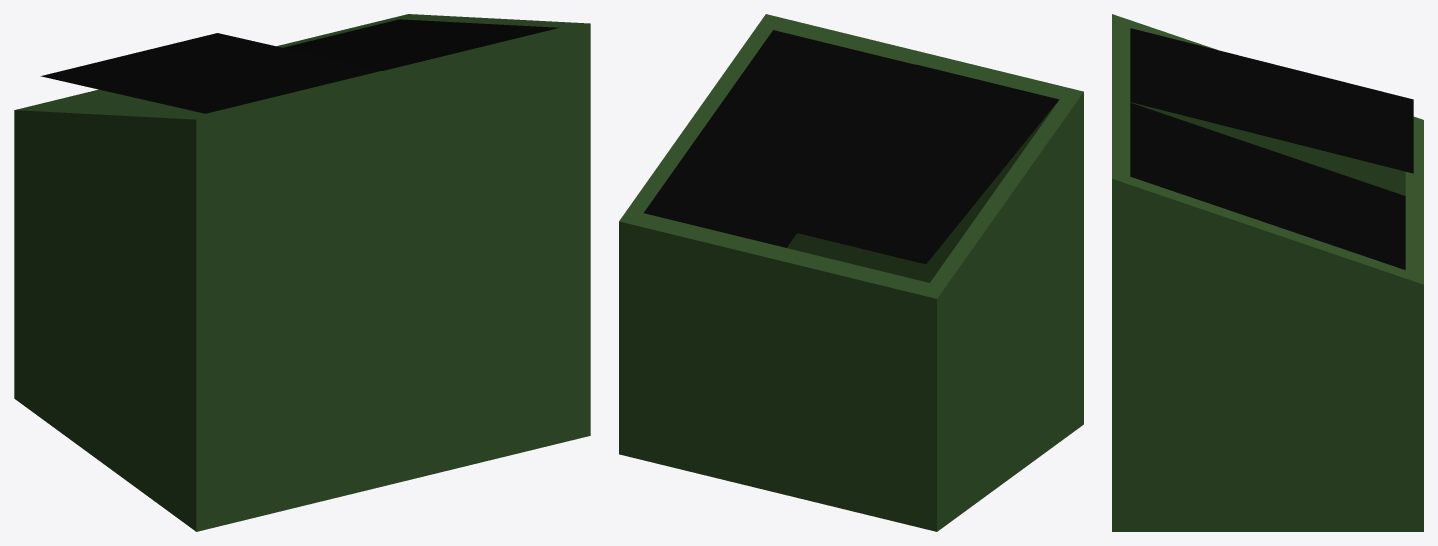
The model's file is trash container.glb.
The picture shows the model from 3 angles, left to right: view 1: azimuth 30°, elevation 25°; view 2: azimuth 150°, elevation 25°; view 3: azimuth 270°, elevation 25°; orthographic projection. The views are drawn at different scales.
Parts seen in each view (by area): view 1: trash container; view 2: trash container; view 3: trash container.
Part boxes in pixels (x1,y1,x2,y2): trash container: (14,14,590,531); trash container: (619,14,1083,531); trash container: (1112,14,1423,531).
Bounding box in the file's own units: 1 × 1 × 0.8.
